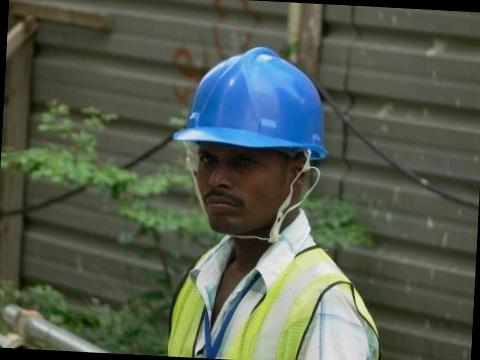helmet: (171, 40, 338, 152)
person: (159, 38, 394, 360)
